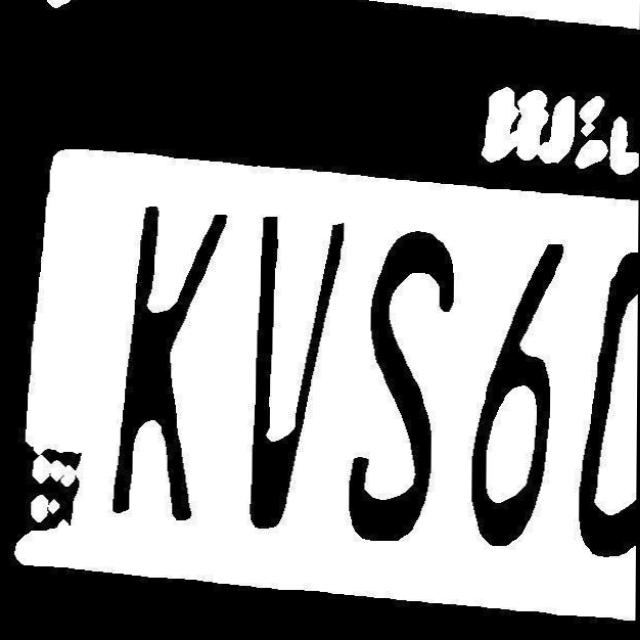6: (469, 240, 568, 549)
k: (112, 198, 233, 526)
s: (346, 229, 462, 544)
v: (248, 213, 353, 534)
